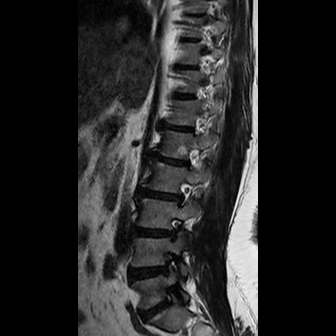RFS0: (167, 176, 197, 210)
RFS2: (160, 216, 190, 250)
